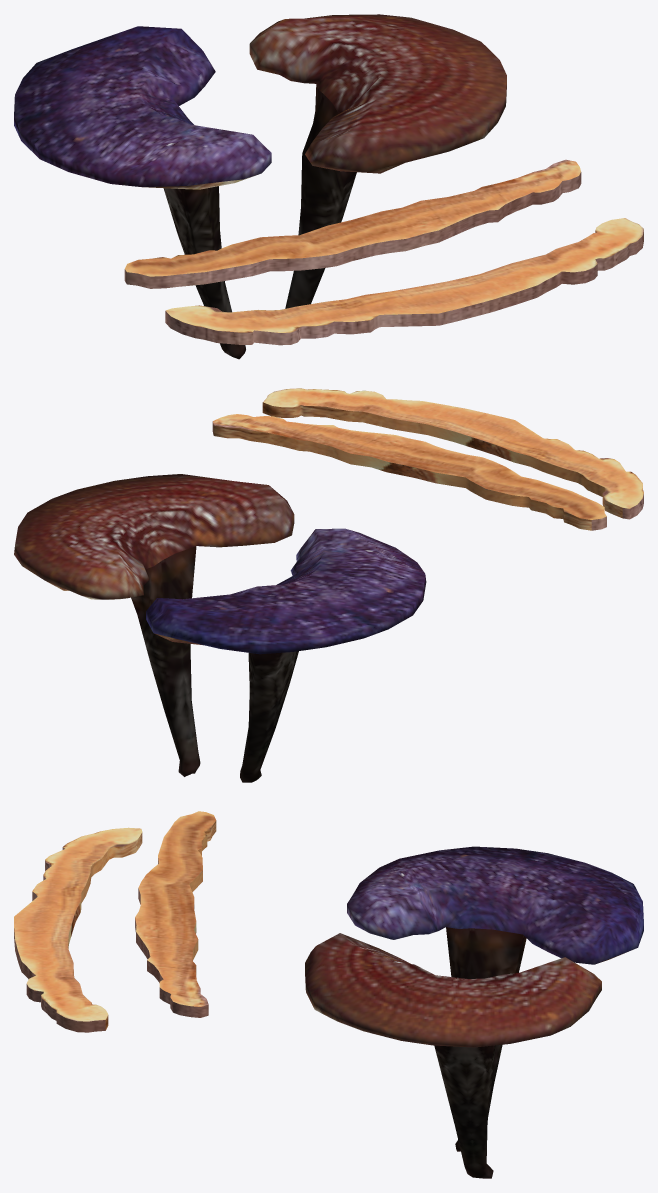
File: lingzhi.FBX
3 renders of one model, top to bottom at view 1: azimuth 30°, elevation 25°; view 2: azimuth 150°, elevation 25°; view 3: azimuth 270°, elevation 25°, orthographic. The views are drawn at different scales.
Parts seen in each view (by area): view 1: CHIZHI, ZIZHI, Line002, Line001; view 2: CHIZHI, ZIZHI, Line002, Line001; view 3: ZIZHI, CHIZHI, Line002, Line001.
Part boxes in pixels (bbox=[...]): CHIZHI: bbox=[249, 14, 506, 308]; ZIZHI: bbox=[14, 26, 271, 359]; Line002: bbox=[165, 218, 643, 345]; Line001: bbox=[124, 159, 581, 288]; CHIZHI: bbox=[14, 474, 294, 776]; ZIZHI: bbox=[146, 528, 426, 782]; Line002: bbox=[262, 388, 643, 519]; Line001: bbox=[212, 414, 606, 530]; ZIZHI: bbox=[347, 846, 643, 1151]; CHIZHI: bbox=[305, 933, 601, 1178]; Line002: bbox=[14, 827, 142, 1032]; Line001: bbox=[135, 811, 216, 1017].
Size of the model in its own units: 109 by 53.43 by 131.
Materials: 2 (2 with a texture image).
